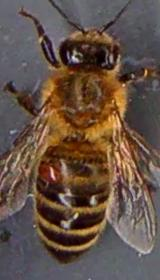varroa_mite: (32, 164, 67, 185)
